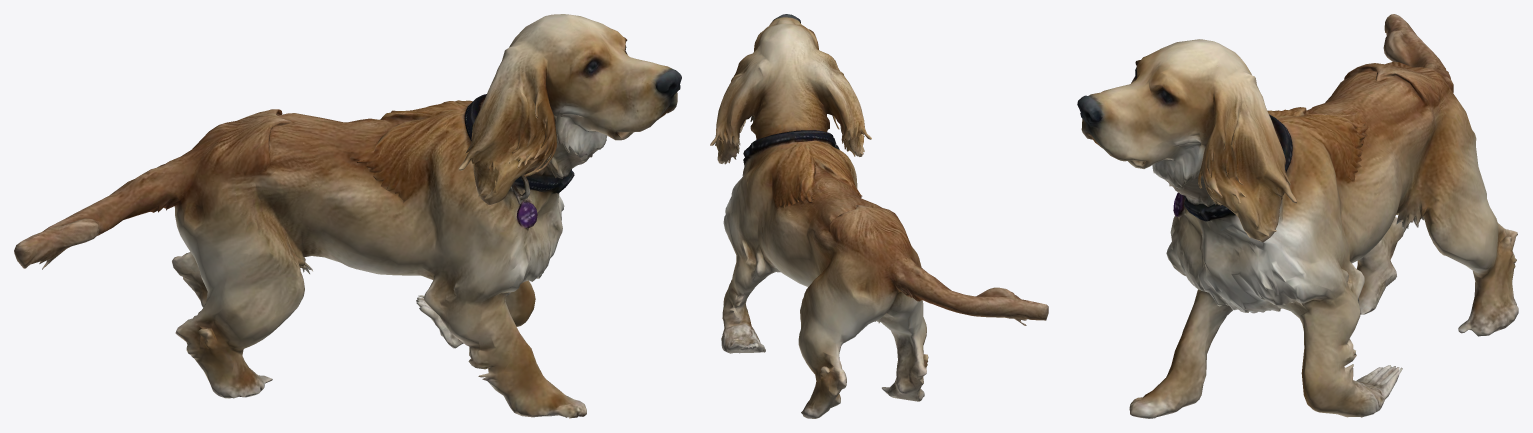
Rendered from chip.glb.
The picture shows the model from 3 angles, left to right: view 1: azimuth 30°, elevation 25°; view 2: azimuth 150°, elevation 25°; view 3: azimuth 270°, elevation 25°; orthographic projection. The views are drawn at different scales.
Parts seen in each view (by area): view 1: model; view 2: model; view 3: model.
Boxes of the visible parts, left/top/right/bottom form: model: left=14, top=14, right=681, bottom=418; model: left=710, top=14, right=1048, bottom=418; model: left=1077, top=14, right=1518, bottom=418.
Size of the model in its own units: 0.979 by 0.6778 by 0.7074.
1 material, 1 textured.
